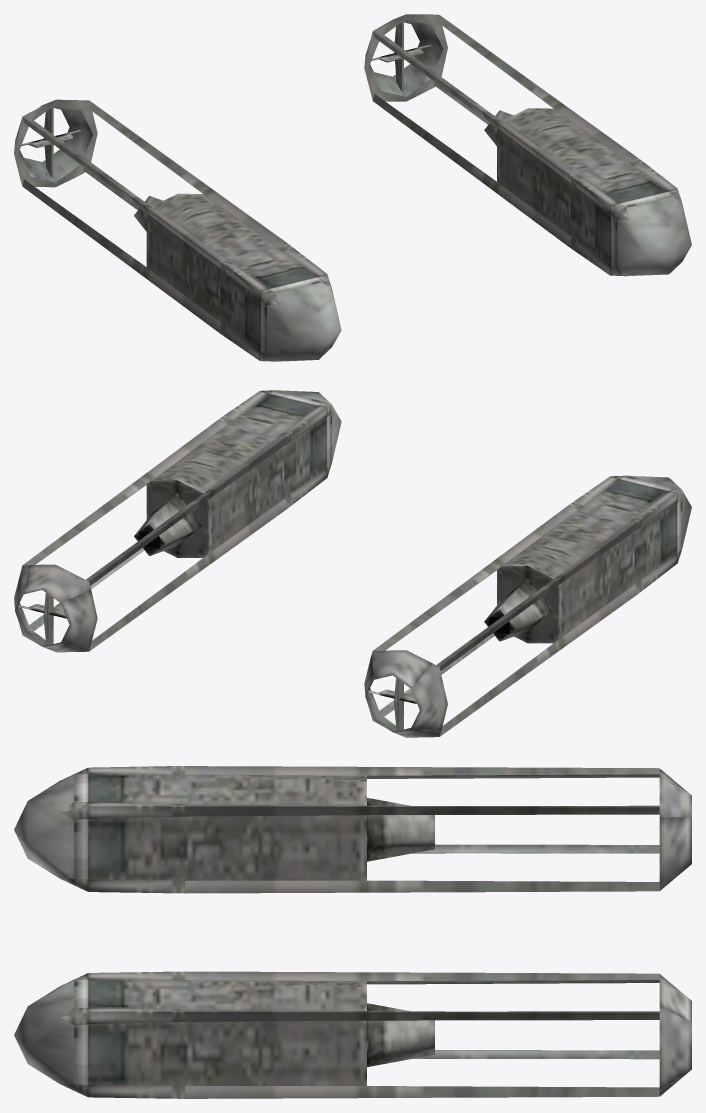
The model's file is ywing_engine_s01_l2.fbx.
The picture shows the model from 3 angles, top to bottom: view 1: azimuth 30°, elevation 25°; view 2: azimuth 150°, elevation 25°; view 3: azimuth 270°, elevation 25°; orthographic projection. The views are drawn at different scales.
Visible parts, largest first — view 1: mesh_node; view 2: mesh_node; view 3: mesh_node.
Boxes of the visible parts, x1,y1,x2,y2 form: mesh_node: [14, 14, 691, 361]; mesh_node: [14, 390, 691, 737]; mesh_node: [14, 766, 691, 1098].
Bounding box in the file's own units: 11.84 × 2.28 × 13.33.
Materials: 1 (1 with a texture image).
